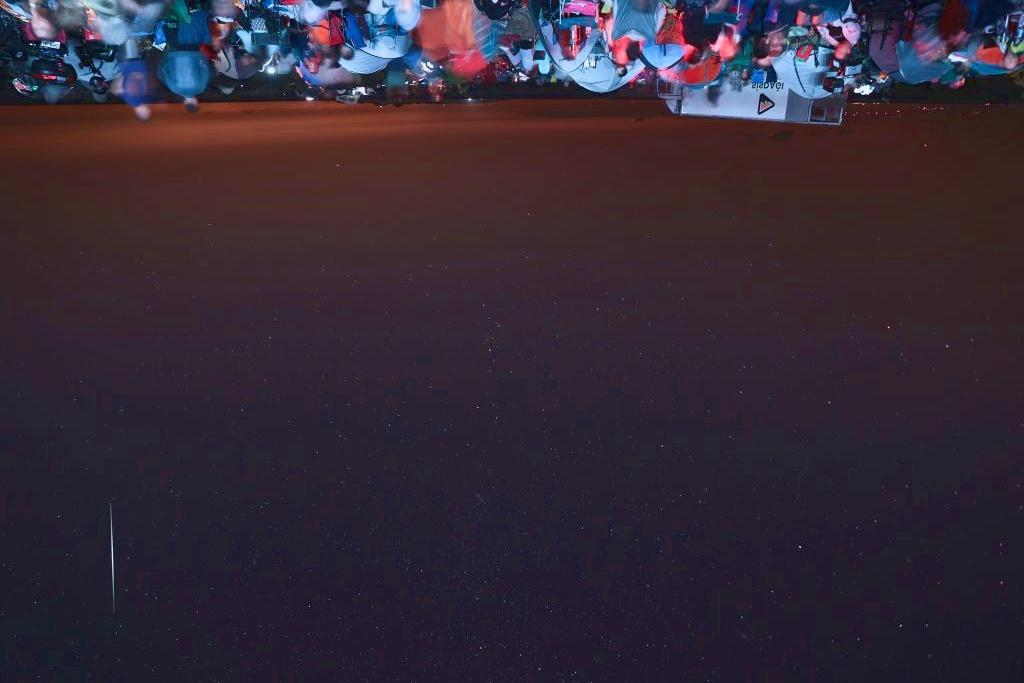meteorite: (102, 521, 130, 615)
